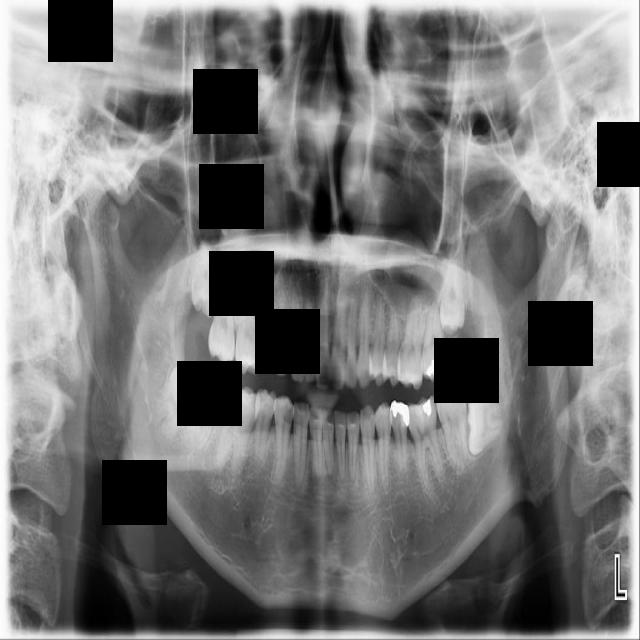3M ESPE Implant: (190, 243, 220, 318)
52: (416, 336, 453, 384), (403, 395, 440, 432), (389, 400, 410, 432)
BioHorizons Implant: (420, 295, 451, 382)
BioLife Implant: (440, 263, 465, 334)
Biomet 3i Implant: (466, 392, 505, 456)
Blue Sky Bio Implant: (435, 380, 469, 473)
Caries: (207, 272, 237, 366)
Implant: (185, 368, 229, 454)
Keystone Dental Implant: (143, 363, 211, 445)
